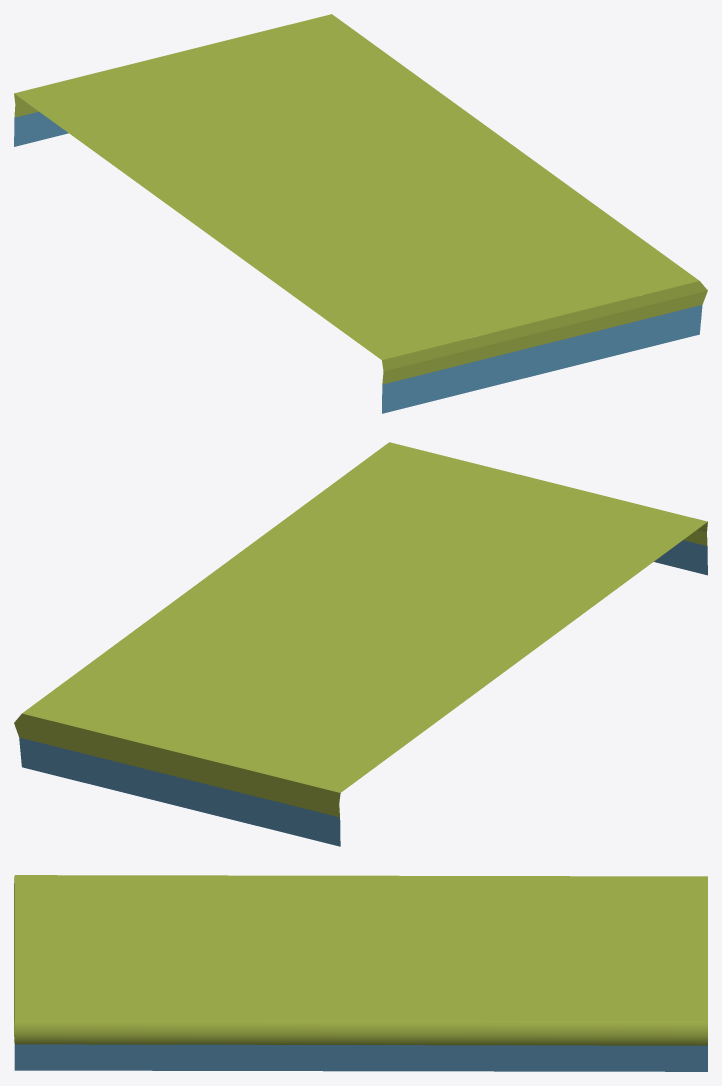
The model's file is Module_sci_Singlestep_01.FBX.
The picture shows the model from 3 angles, top to bottom: view 1: azimuth 30°, elevation 25°; view 2: azimuth 150°, elevation 25°; view 3: azimuth 270°, elevation 25°; orthographic projection. The views are drawn at different scales.
Visible parts, largest first — view 1: Module_sci_Singlestep_01; view 2: Module_sci_Singlestep_01; view 3: Module_sci_Singlestep_01.
Part boxes in pixels (x1,y1,x2,y2): Module_sci_Singlestep_01: [14, 14, 707, 413]; Module_sci_Singlestep_01: [14, 442, 707, 846]; Module_sci_Singlestep_01: [14, 875, 707, 1071].
Bounding box in the file's own units: 20.79 × 3.48 × 40.53.
